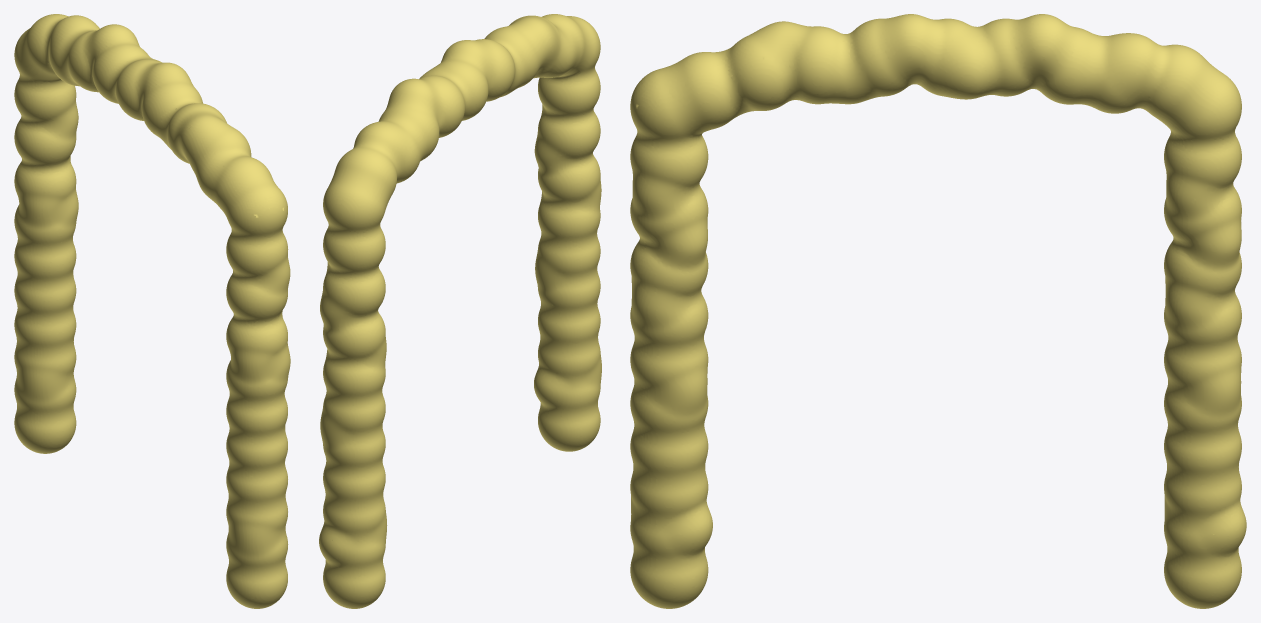
The model's file is Finish.fbx.
3 renders of one model, left to right at view 1: azimuth 30°, elevation 25°; view 2: azimuth 150°, elevation 25°; view 3: azimuth 270°, elevation 25°, orthographic. The views are drawn at different scales.
Visible parts, largest first — view 1: Mball; view 2: Mball; view 3: Mball.
Part boxes in pixels (x1,y1,x2,y2): Mball: (14,14,290,608); Mball: (319,14,601,608); Mball: (630,14,1246,608).
Bounding box in the file's own units: 169 × 1223 × 1155.
